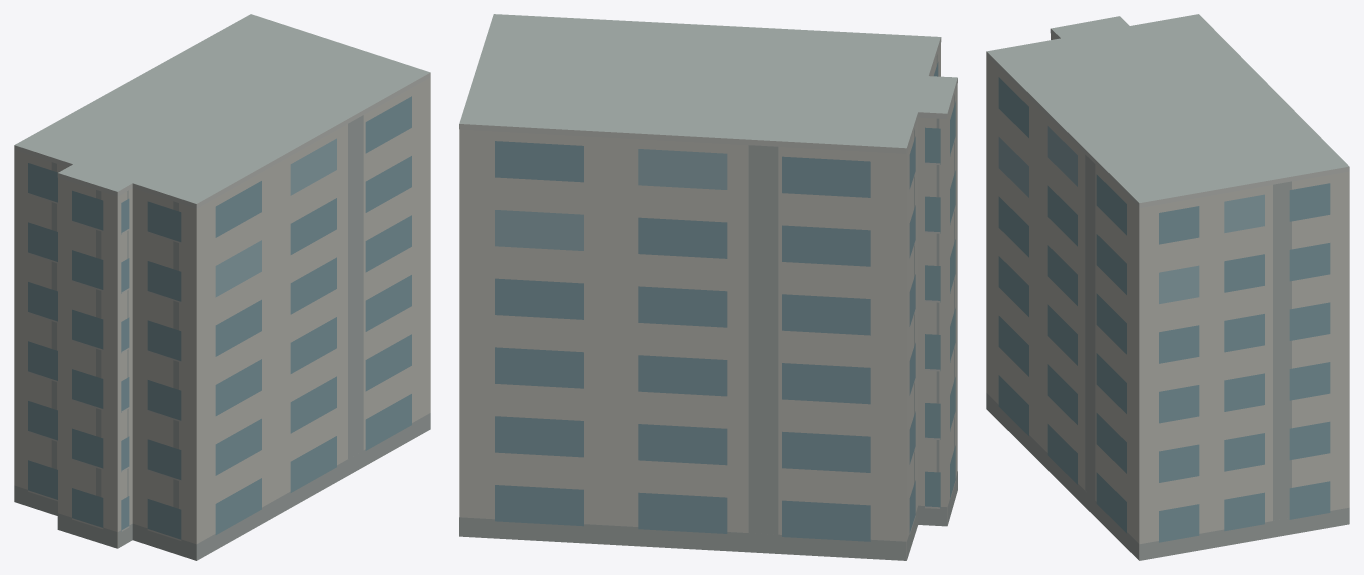
Rendered from survey-upis-33041324.glb.
3 renders of one model, left to right at view 1: azimuth 30°, elevation 25°; view 2: azimuth 150°, elevation 25°; view 3: azimuth 270°, elevation 25°, orthographic. The views are drawn at different scales.
Parts seen in each view (by area): view 1: survey-upis-33041324.tmp; view 2: survey-upis-33041324.tmp; view 3: survey-upis-33041324.tmp.
Boxes of the visible parts, box(x1,y1,x2,y2) form: survey-upis-33041324.tmp: box(14, 14, 430, 560); survey-upis-33041324.tmp: box(459, 14, 957, 560); survey-upis-33041324.tmp: box(986, 14, 1349, 560).
Bounding box in the file's own units: 20.77 × 18.3 × 16.85.
